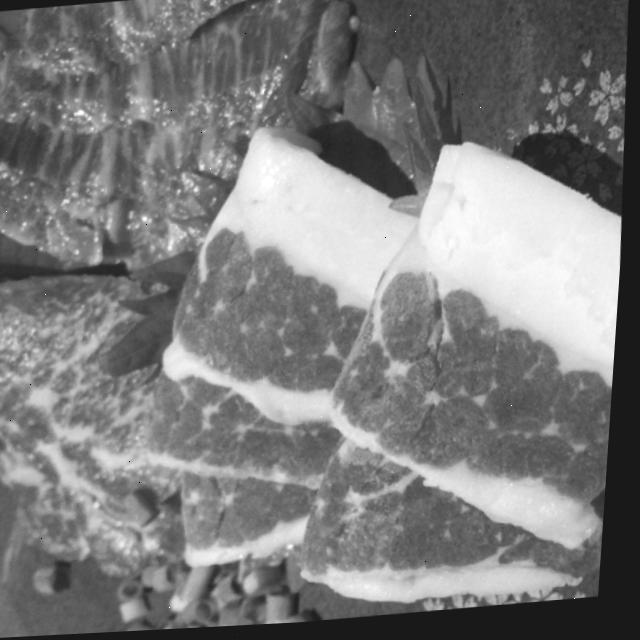刺身生食: (0, 0, 636, 634)
